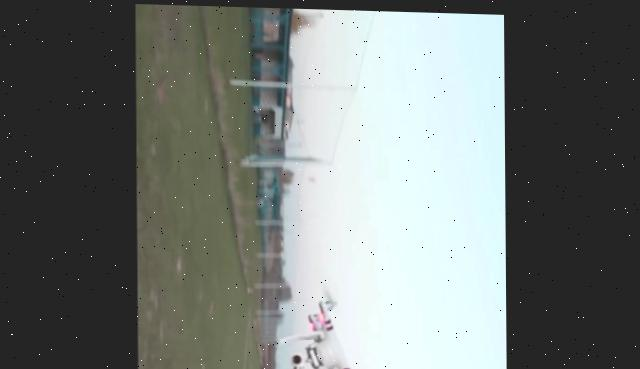drone: (248, 241, 390, 369)
